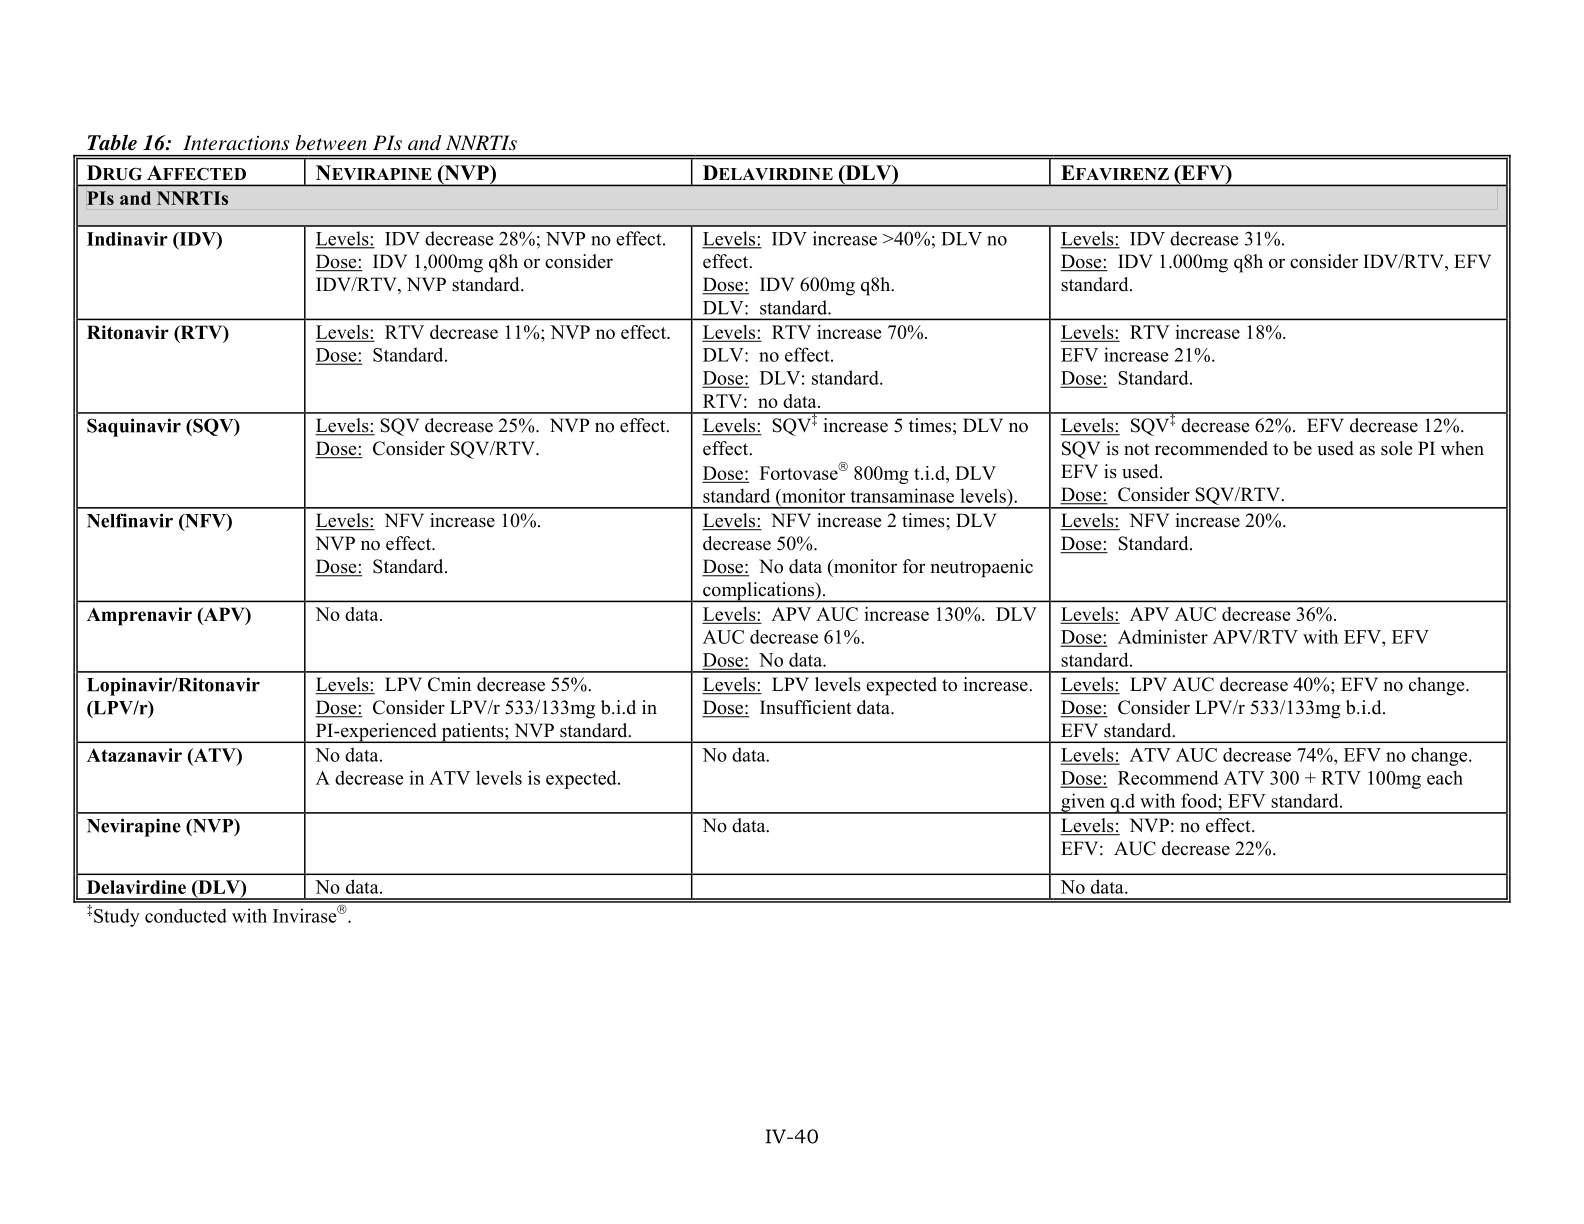merged_cells: (72, 152, 1511, 903)
